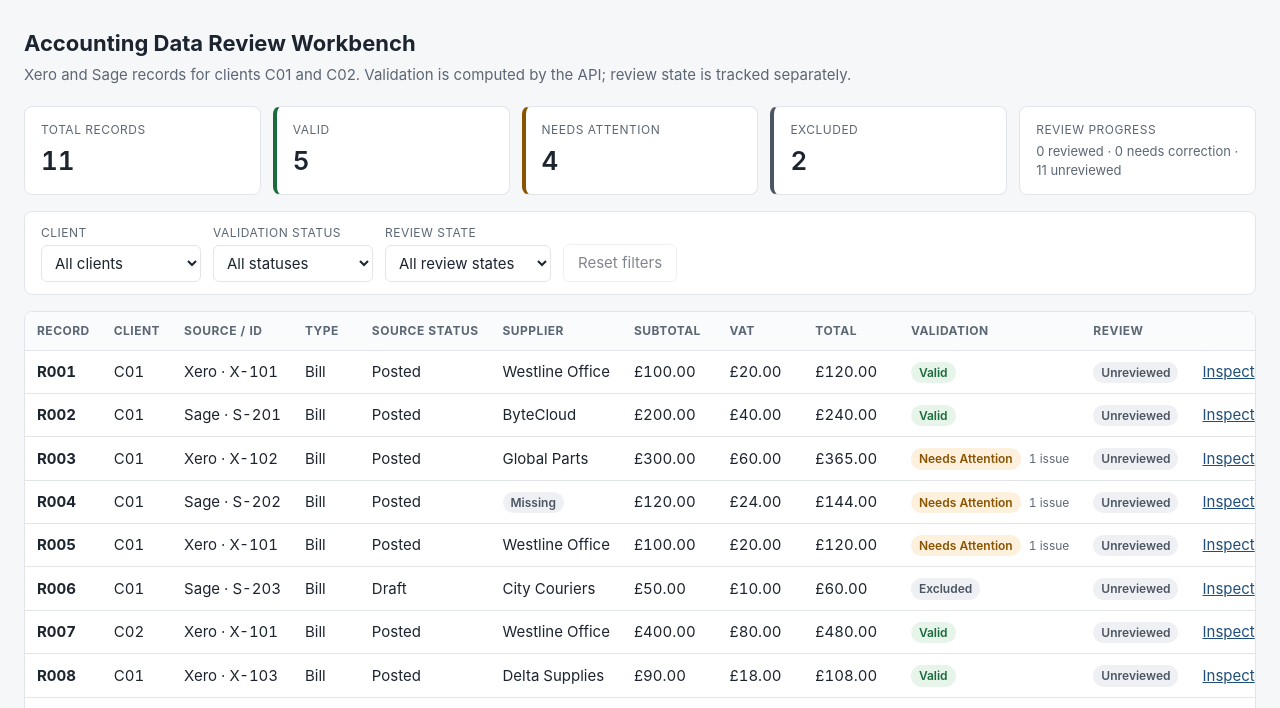
Test case: Review workbench › marks a valid record as reviewed and appends an activity entry
Expected: the row with test id "row-R001" is shown, [25,350,1256,393]
Click the button "Inspect" in the row of "R001" at (1229, 372), box [1202,361,1255,383]
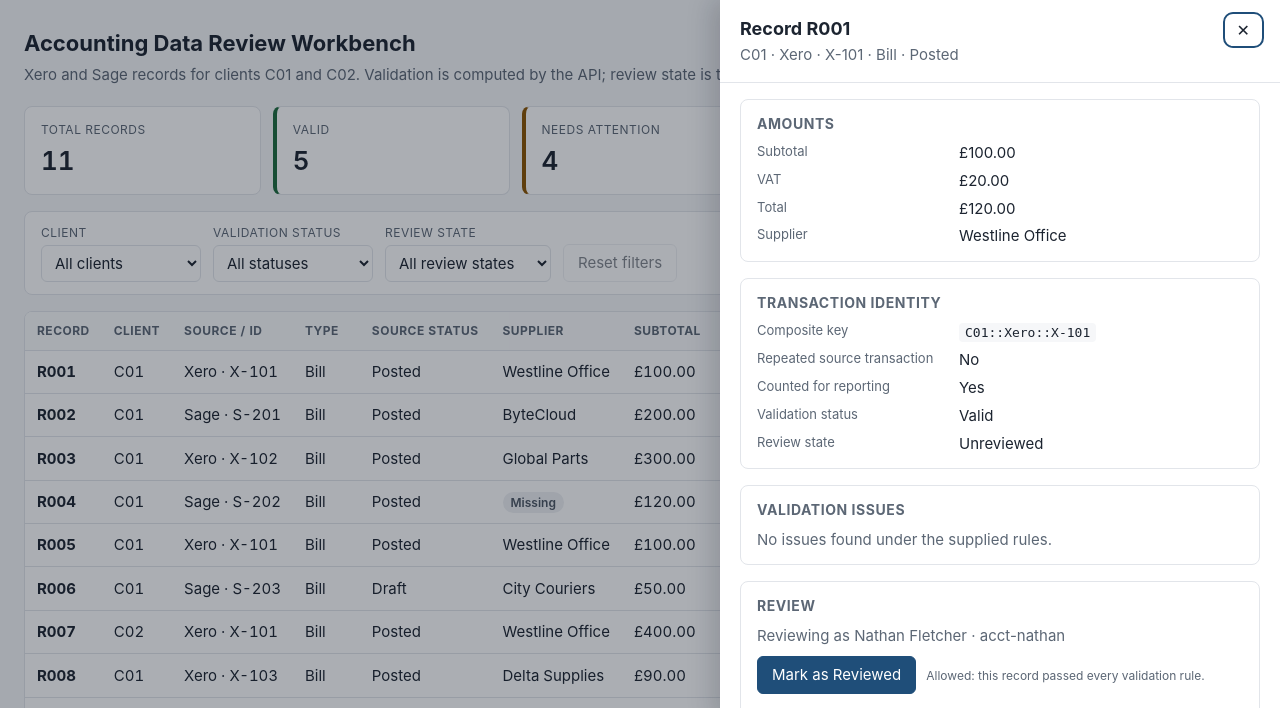
Click the button with test id "mark-reviewed" at (837, 675), box [757,656,916,694]
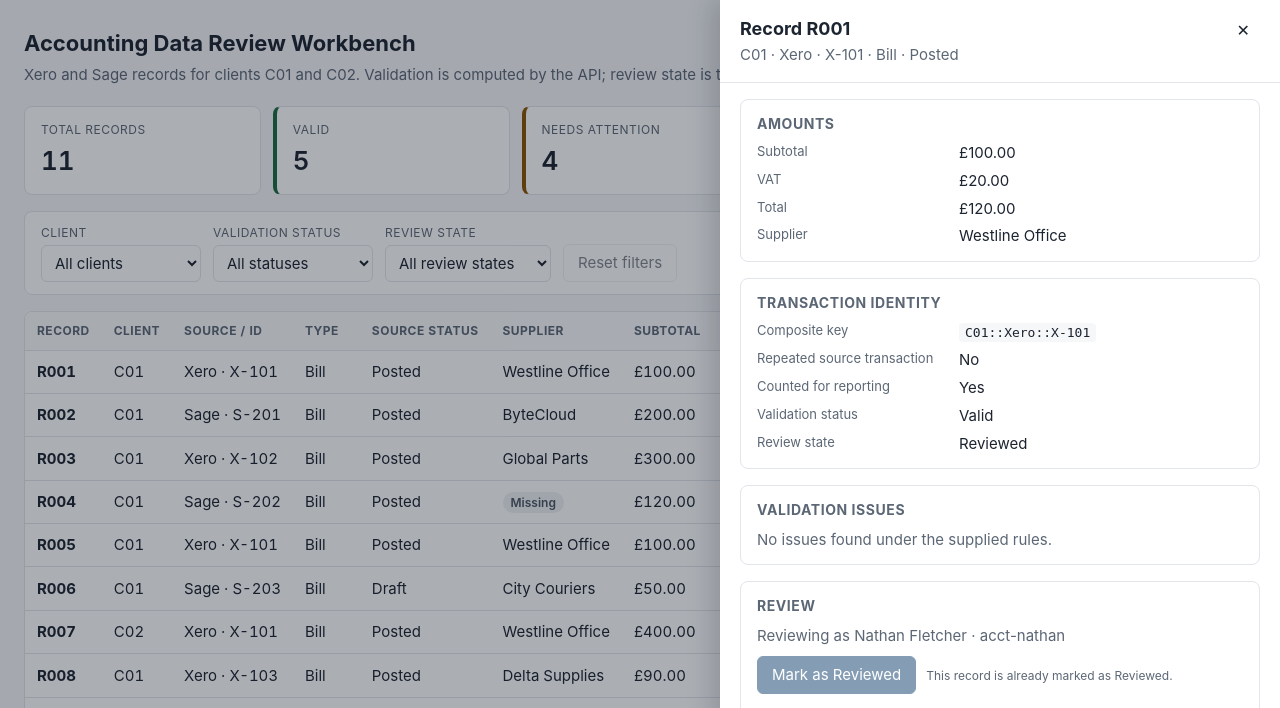
Expected: the button with test id "mark-reviewed" is disabled, [757,656,916,694]
